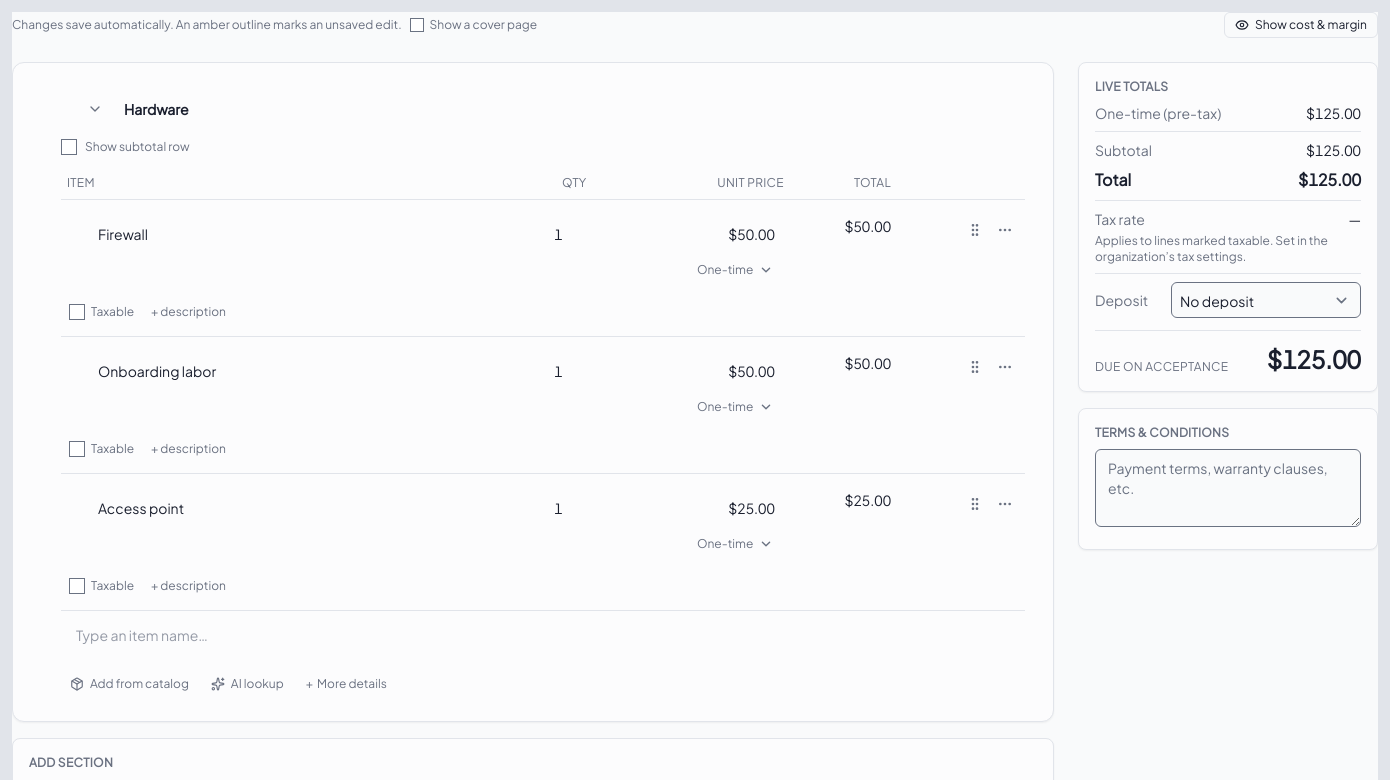
it: QuoteEditor — bulk edit (Task D) › an empty bulk value shows an inline error and PATCHes nothing
The image size is (1390, 780).
What coordinates should you click on to do the following:
click the checkbox with test id "quote-line-select-line-1"
I would click on:
 (265, 234)
Its box is [67,216,462,252].
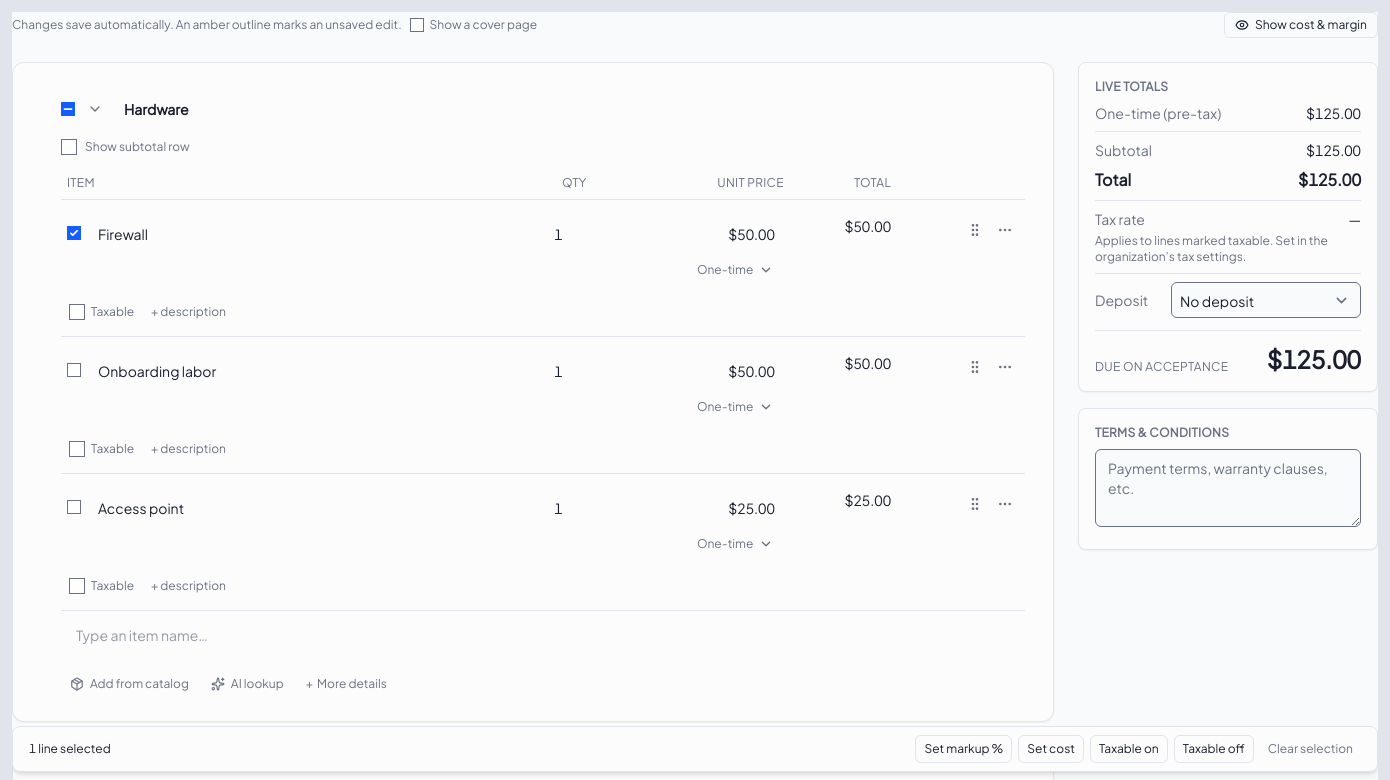
What coordinates should you click on to do the following:
click the button with test id "quote-bulk-set-cost"
I would click on:
 (1051, 749)
Its box is [1018,735,1084,763].
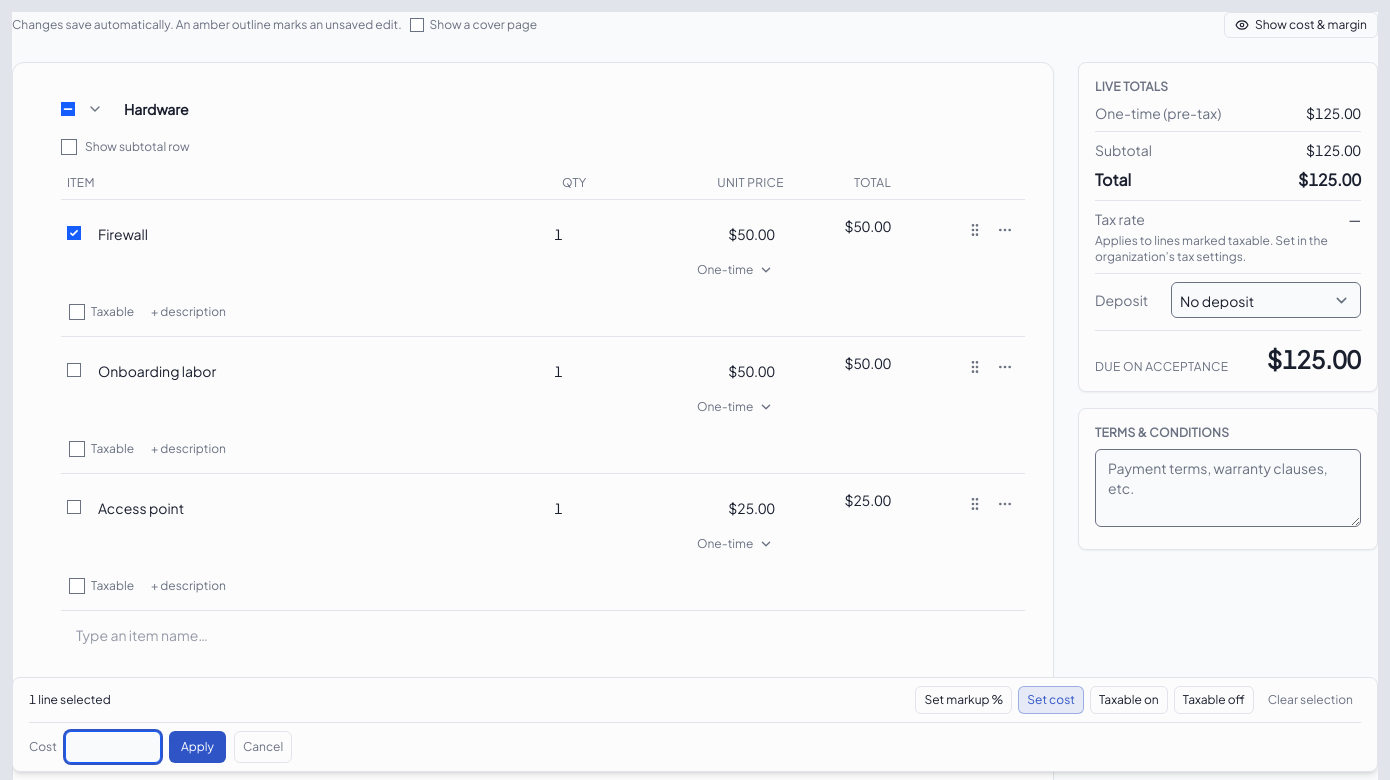
What coordinates should you click on to do the following:
click the button with test id "quote-bulk-apply"
I would click on:
 (197, 747)
Its box is [169,731,226,763].
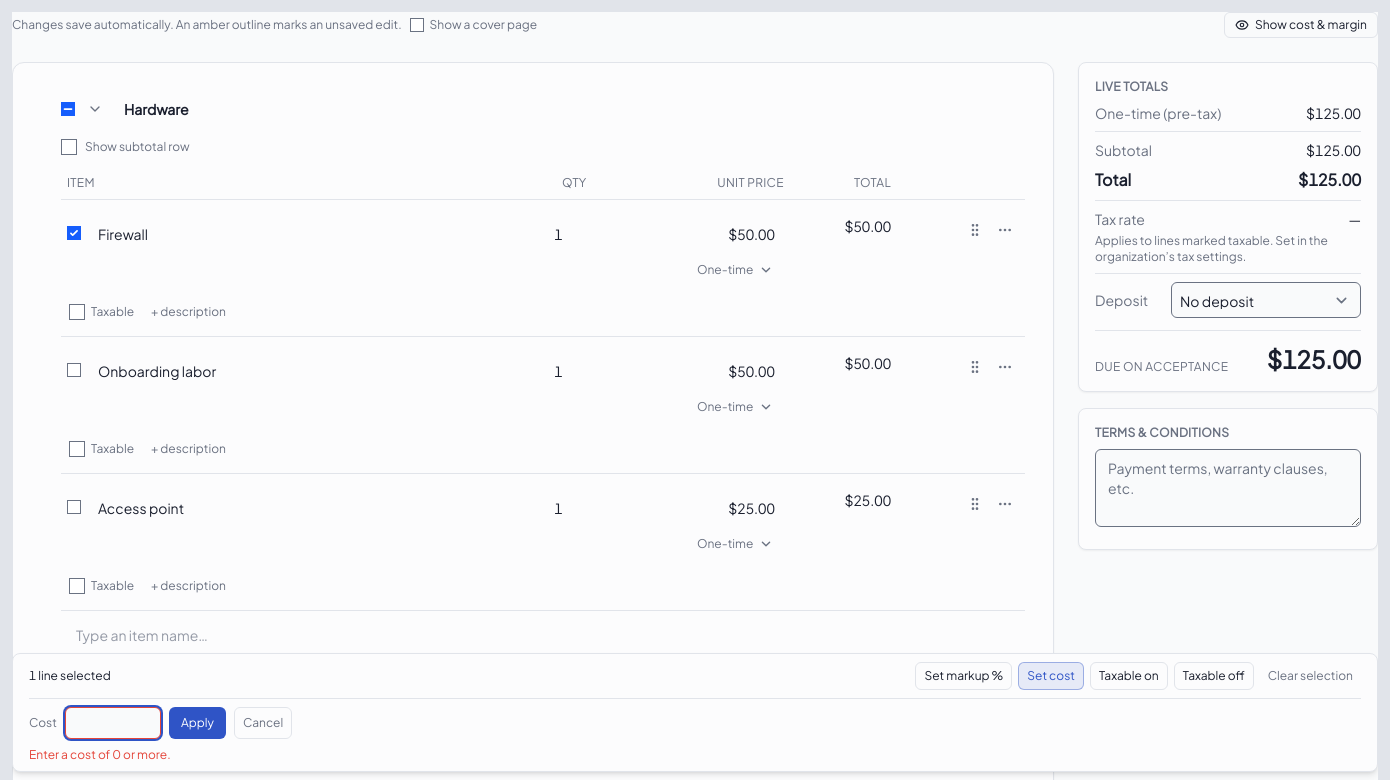
Check: the text "Enter a cost of 0 or more." is shown, box [29,747,171,762]
